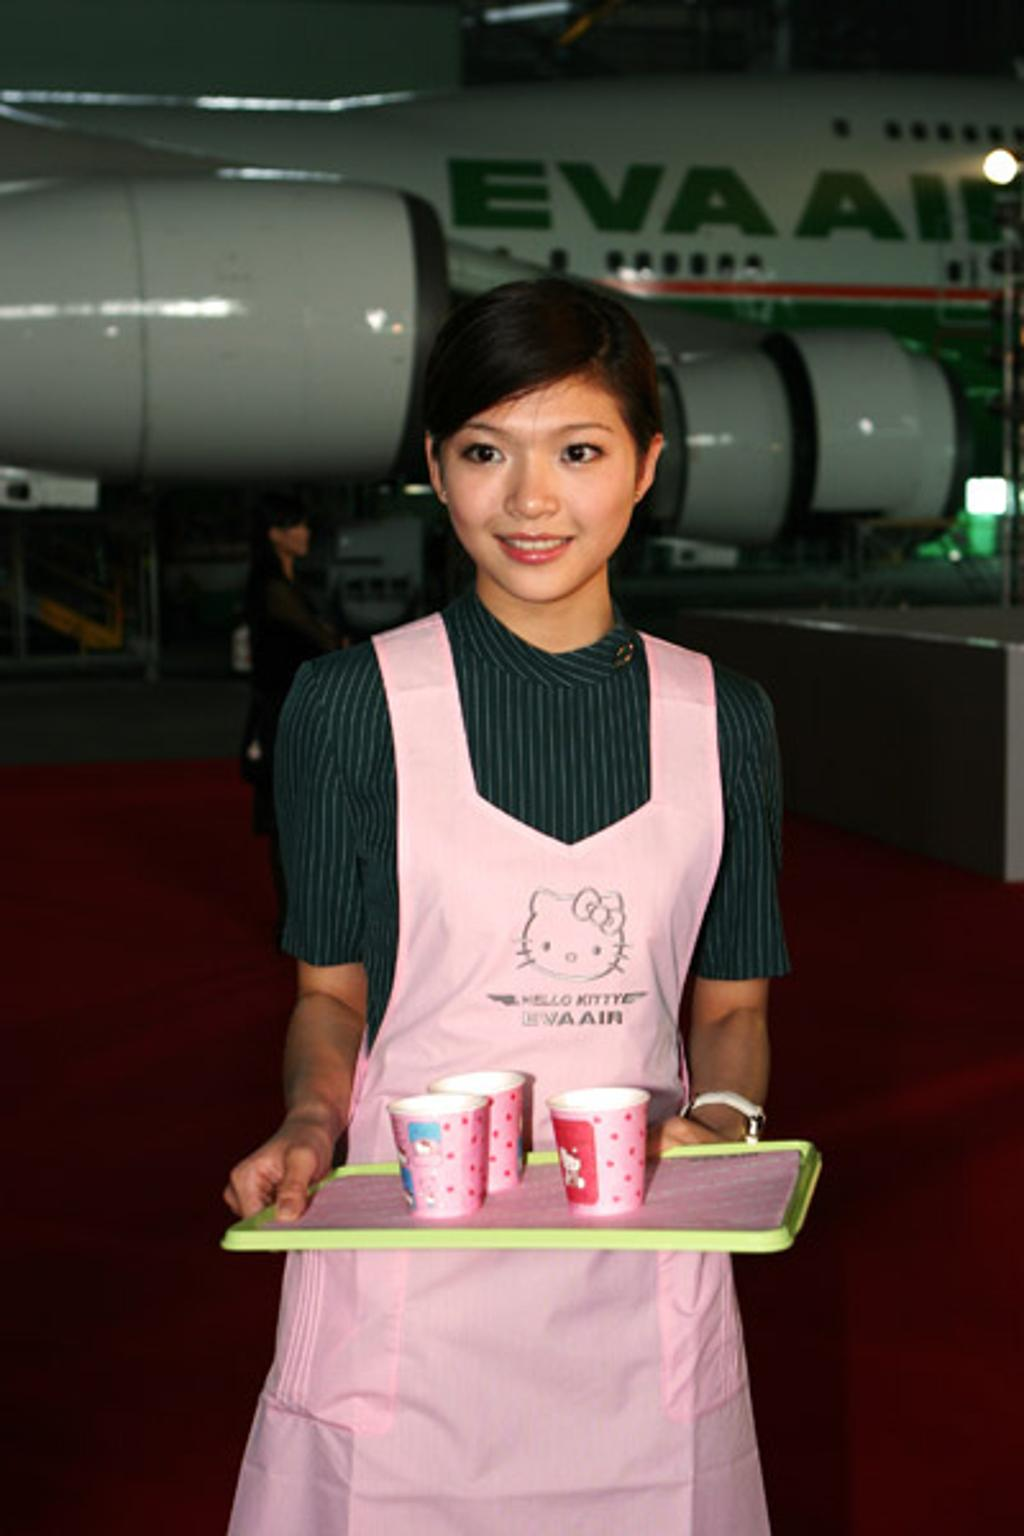face: (438, 369, 639, 600)
